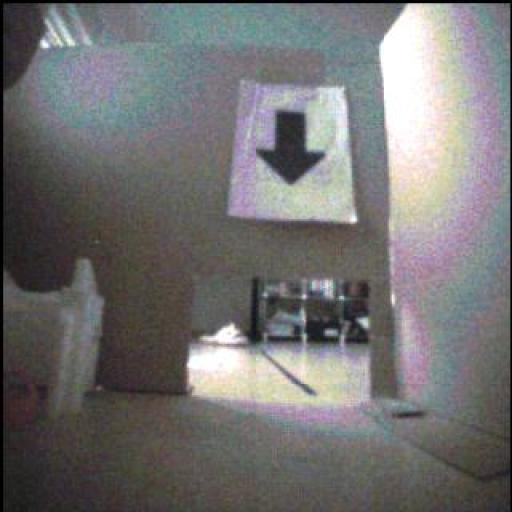arrow: (257, 111, 326, 185)
